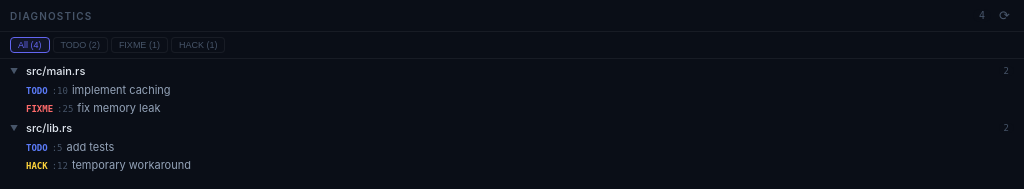
Test: TodoPanel › filters by marker type when filter button is clicked
Expected: the button "TODO (2)" is shown, top-left (52, 37), bottom-right (108, 53)
Click the button "FIXME (1)" at (139, 45), box top-left (111, 37), bottom-right (168, 53)
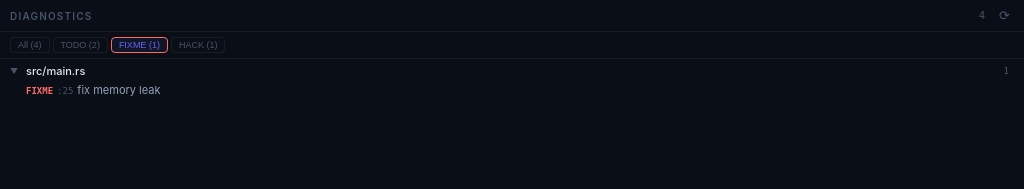
Now the text "fix memory leak" is shown, box top-left (77, 83), bottom-right (160, 97)
Now the text "implement caching" is gone
Now the text "add tests" is gone
